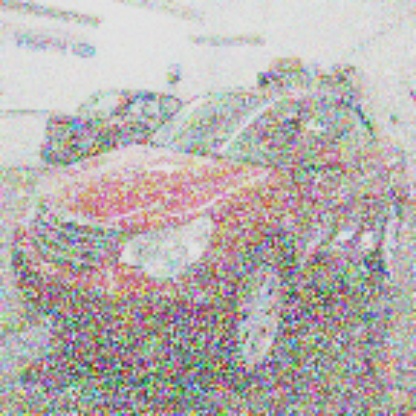Vehicle: (11, 86, 409, 384)
